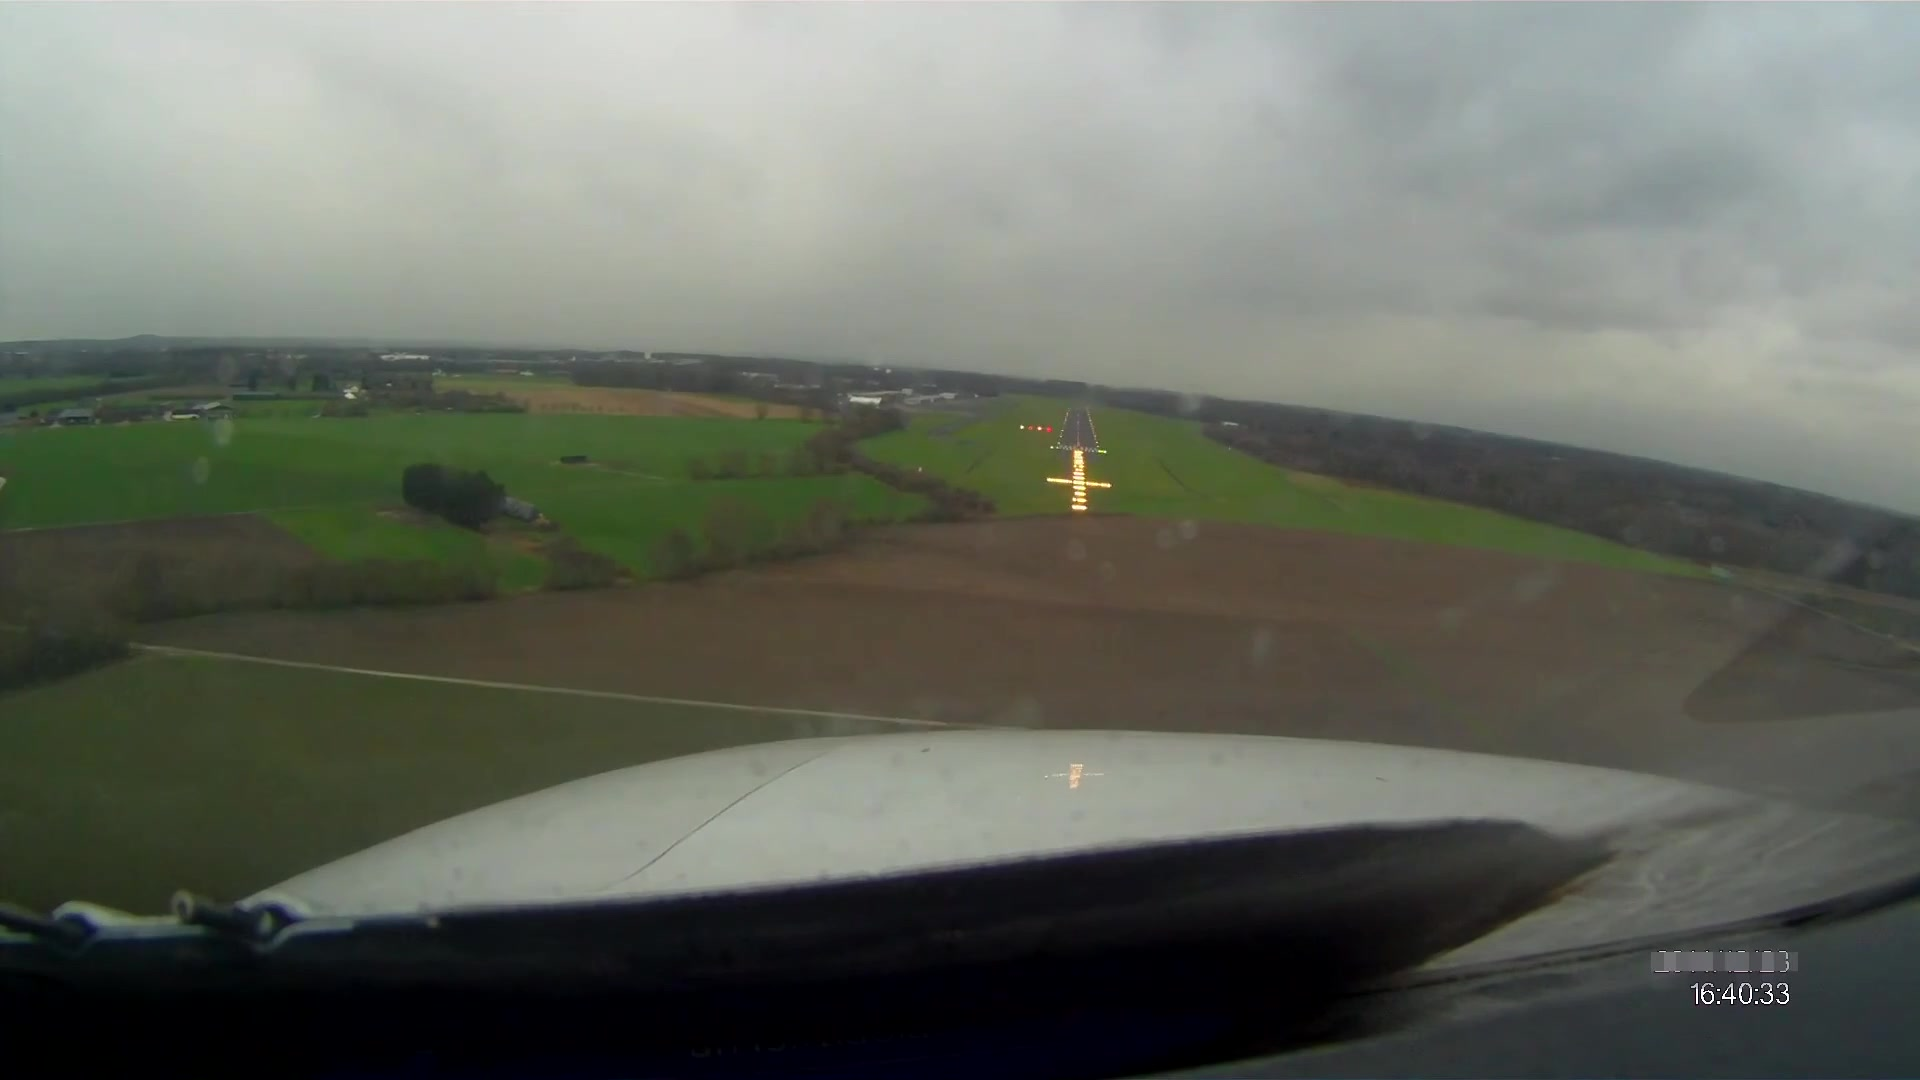runway: (1052, 402, 1101, 455)
